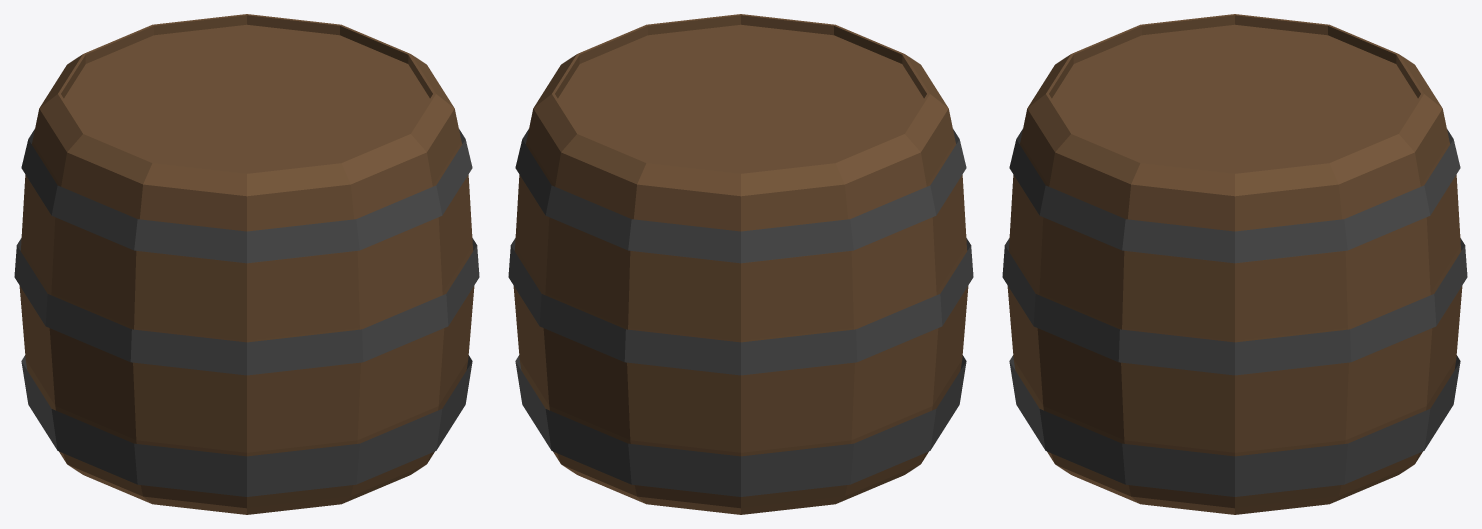
Rendered from Barril.fbx.
3 renders of one model, left to right at view 1: azimuth 30°, elevation 25°; view 2: azimuth 150°, elevation 25°; view 3: azimuth 270°, elevation 25°, orthographic.
Parts seen in each view (by area): view 1: Barril; view 2: Barril; view 3: Barril.
Boxes of the visible parts, box(x1,y1,x2,y2) form: Barril: box(14, 14, 479, 514); Barril: box(508, 14, 973, 514); Barril: box(1002, 14, 1467, 514).
Bounding box in the file's own units: 163 × 132 × 163.
